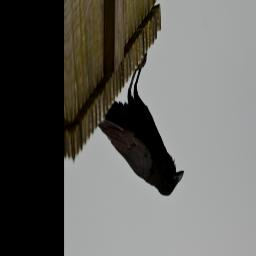Crow: (94, 37, 185, 229)
